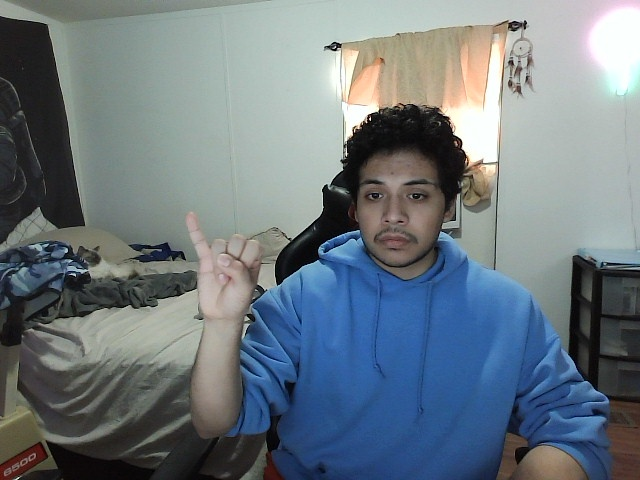I: (180, 206, 263, 322)
